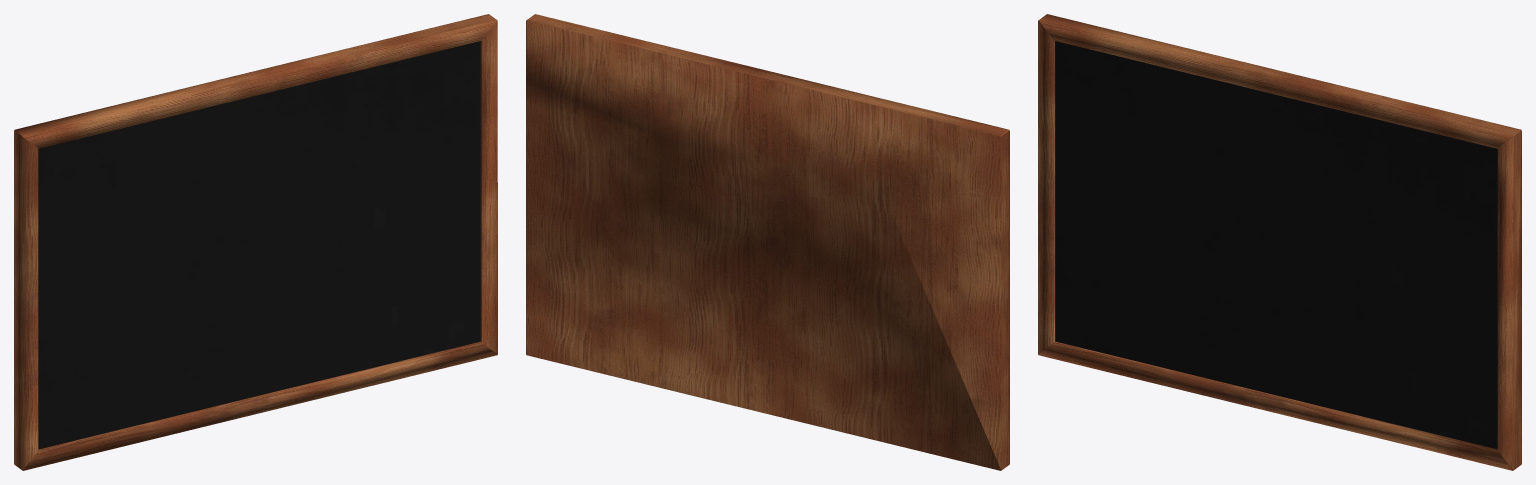
File: B075YL3HWX.glb
3 renders of one model, left to right at view 1: azimuth 30°, elevation 25°; view 2: azimuth 150°, elevation 25°; view 3: azimuth 330°, elevation 25°, orthographic.
Visible parts, largest first — view 1: RootNode; view 2: RootNode; view 3: RootNode.
Part boxes in pixels (box(x1,y1,x2,y2)): RootNode: box(14, 14, 497, 470); RootNode: box(526, 14, 1009, 470); RootNode: box(1038, 14, 1521, 470).
Size of the model in its own units: 0.9503 by 0.6401 by 0.0292.
1 material, 1 textured.
